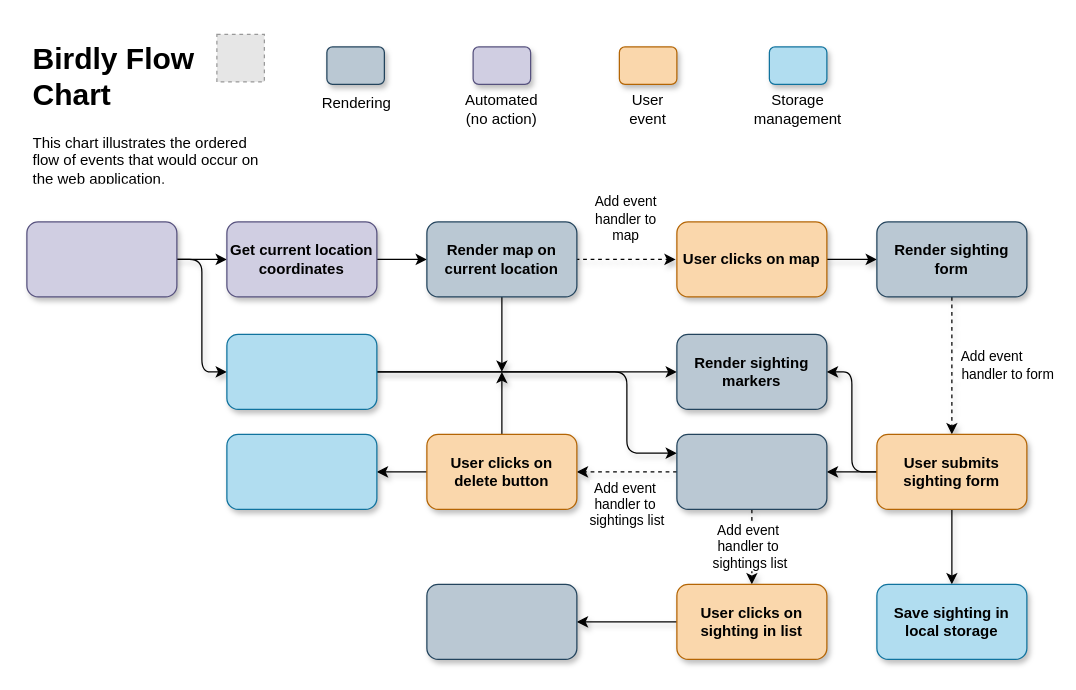
Image size: 1076x690. Some labels were removed from this diagram. Grey dashed boxes stand in for pictures. Each missing label, with the centre of its shape:
Load sightings from local storage: the point at 302,373
Move map to sighting location: the point at 502,623
Page Loads: the point at 102,261
remove sighting from local storage: the point at 302,473
Render sightings list: the point at 752,473
